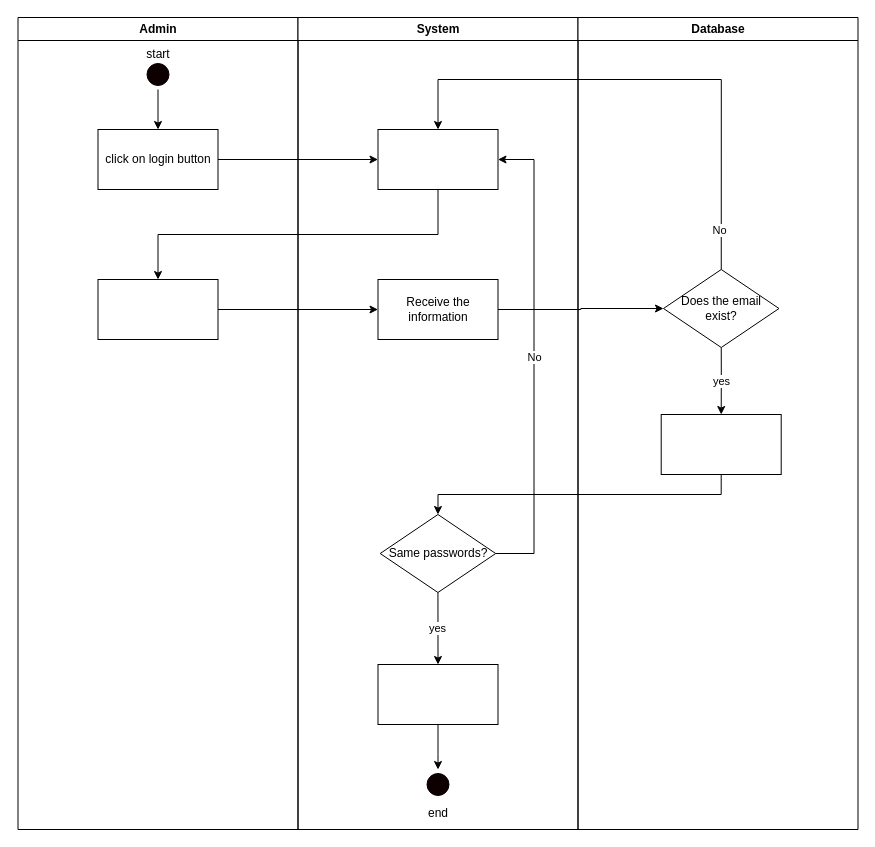
The diagram is 875 pixels wide and 847 high, and some of its shapes have lost their labels. The centre of each missing label's shape, as x and y in pixels:
"Display view to login" belongs at point (437, 159).
"Enter email and password" belongs at point (157, 309).
"Gets the user" belongs at point (720, 444).
"Redirect to main view" belongs at point (437, 694).
